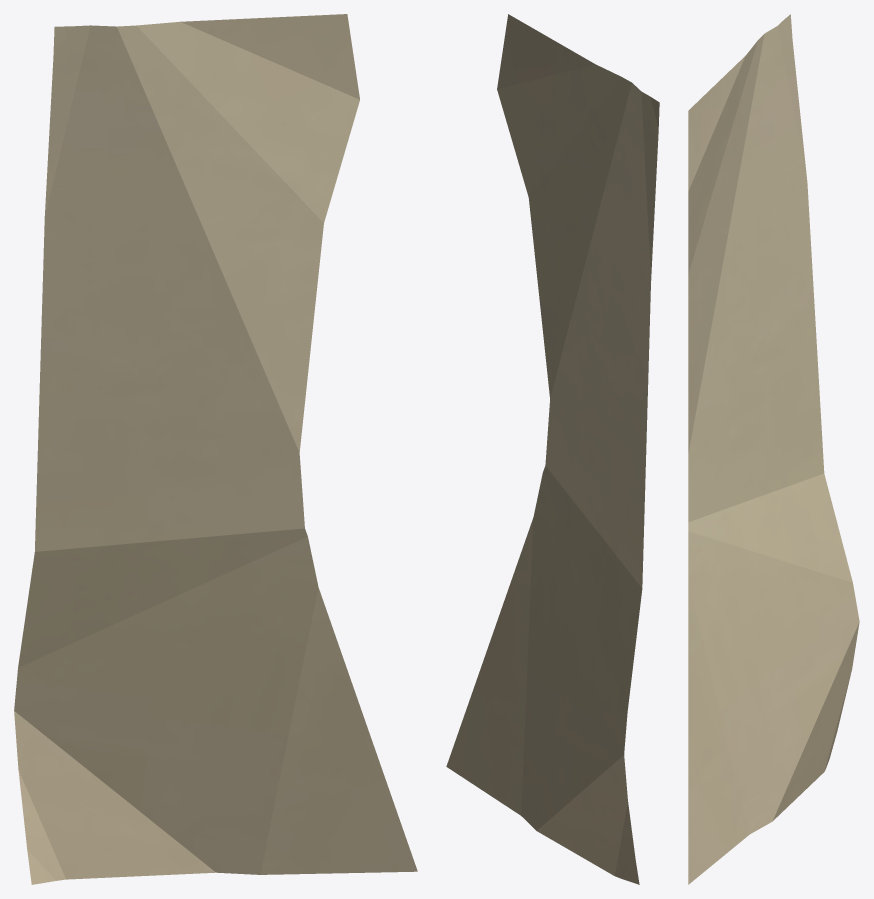
The picture shows the model from 3 angles, left to right: view 1: azimuth 30°, elevation 25°; view 2: azimuth 150°, elevation 25°; view 3: azimuth 270°, elevation 25°; orthographic projection. The views are drawn at different scales.
Bounding box in the file's own units: 0.3037 × 0.8373 × 0.1745.
1 material, 1 textured.
